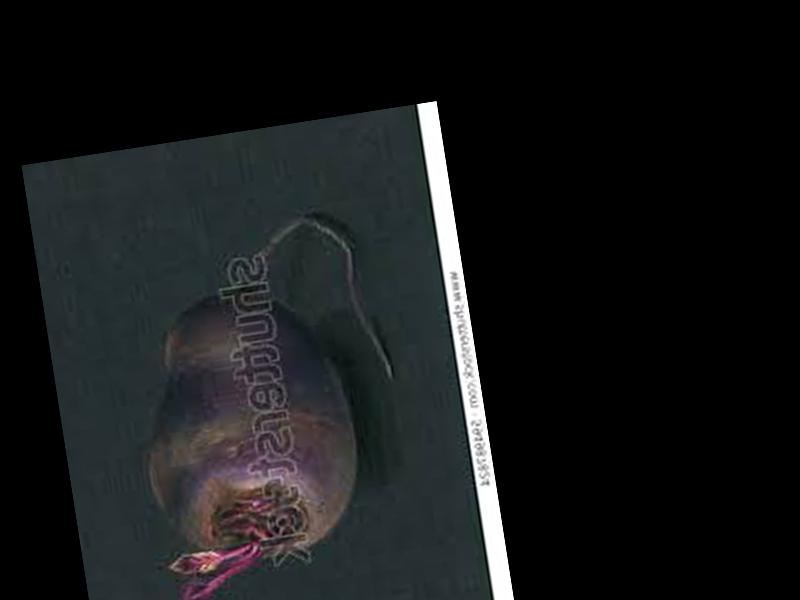Beet: (112, 208, 423, 600)
